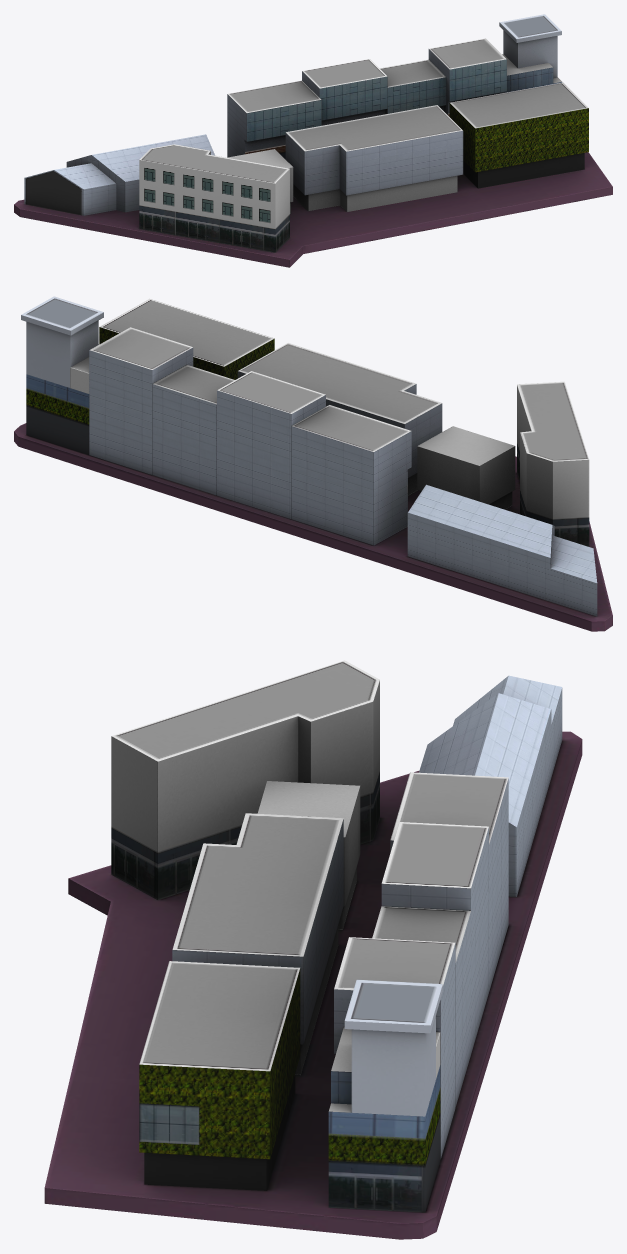
The model's file is xfl.gltf.
The picture shows the model from 3 angles, top to bottom: view 1: azimuth 30°, elevation 25°; view 2: azimuth 150°, elevation 25°; view 3: azimuth 270°, elevation 25°; orthographic projection. The views are drawn at different scales.
Visible parts, largest first — view 1: pCube1, pCube10, pCube12, pCube4, pCube3, pCube13, pCube14, pCube16, pCube15, pCube5, pCube6, pCube11; view 2: pCube3, pCube13, pCube1, pCube14, pCube12, pCube16, pCube10, pCube15, pCube4, pCube11, pCube5, pCube2 (+1 smaller); view 3: pCube1, pCube12, pCube4, pCube10, pCube3, pCube5, pCube2, pCube14, pCube16, pCube13, pCube15, pCube11 (+1 smaller).
Part boxes in pixels (left/top/right/bottom): pCube1: left=14, top=152, right=612, bottom=267; pCube10: left=285, top=105, right=463, bottom=211; pCube12: left=139, top=144, right=289, bottom=252; pCube4: left=449, top=82, right=588, bottom=188; pCube3: left=24, top=134, right=214, bottom=215; pCube13: left=227, top=80, right=321, bottom=159; pCube14: left=302, top=59, right=387, bottom=125; pCube16: left=428, top=38, right=506, bottom=116; pCube15: left=380, top=59, right=446, bottom=113; pCube5: left=499, top=14, right=561, bottom=77; pCube6: left=502, top=54, right=553, bottom=91; pCube11: left=227, top=149, right=293, bottom=213; pCube3: left=407, top=484, right=597, bottom=616; pCube13: left=291, top=405, right=411, bottom=545; pCube1: left=14, top=423, right=612, bottom=631; pCube14: left=217, top=371, right=325, bottom=519; pCube12: left=517, top=381, right=589, bottom=546; pCube16: left=89, top=327, right=193, bottom=474; pCube10: left=237, top=343, right=442, bottom=495; pCube15: left=152, top=365, right=234, bottom=495; pCube4: left=99, top=299, right=274, bottom=379; pCube11: left=417, top=426, right=515, bottom=509; pCube5: left=21, top=296, right=103, bottom=387; pCube2: left=26, top=374, right=89, bottom=454; pCube1: left=44, top=731, right=582, bottom=1239; pCube12: left=111, top=660, right=379, bottom=900; pCube4: left=139, top=961, right=300, bottom=1190; pCube10: left=172, top=813, right=343, bottom=1075; pCube3: left=419, top=675, right=562, bottom=896; pCube5: left=344, top=979, right=442, bottom=1116; pCube2: left=328, top=1065, right=440, bottom=1212; pCube14: left=381, top=822, right=488, bottom=1054; pCube16: left=334, top=937, right=455, bottom=1160; pCube13: left=390, top=772, right=508, bottom=991; pCube15: left=372, top=906, right=470, bottom=1106; pCube11: left=257, top=781, right=360, bottom=929.
Bounding box in the file's own units: 15.74 × 3.07 × 7.27.
1 material, 1 textured.
